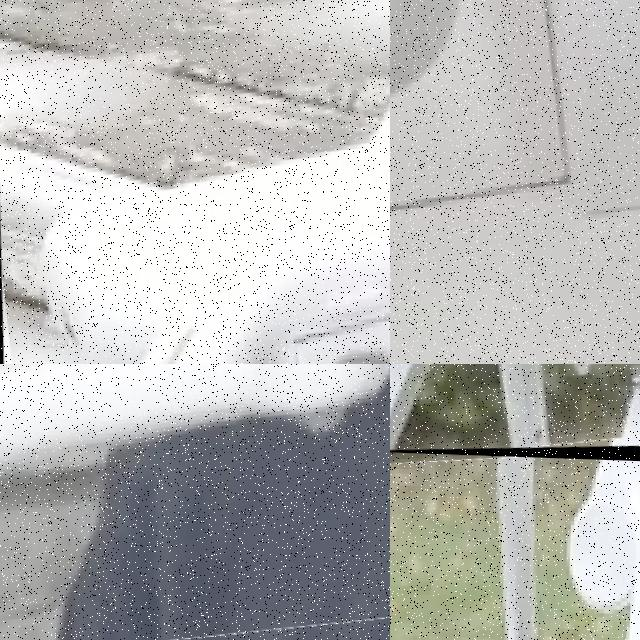drone: (0, 0, 390, 364), (0, 364, 390, 640), (390, 0, 640, 364), (390, 364, 640, 472)
